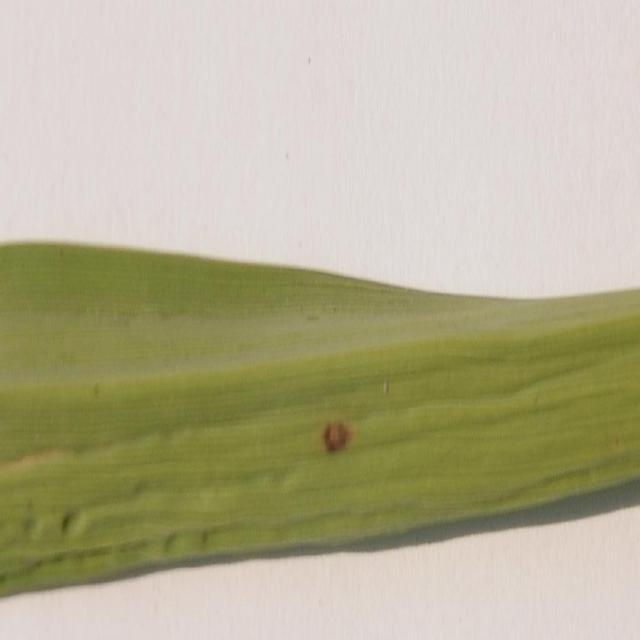Rice_Brownspot: (316, 384, 366, 472)
